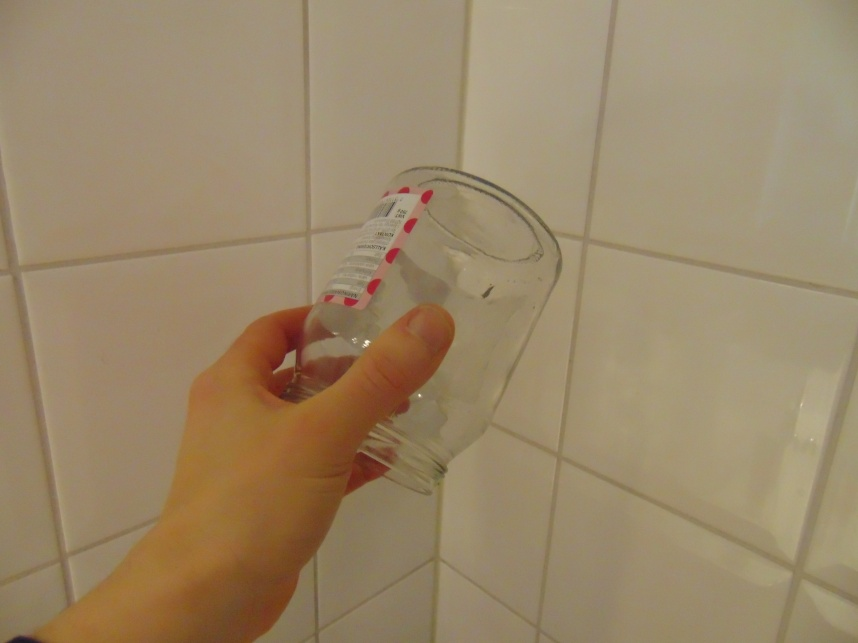glass_bottle: (279, 167, 565, 497)
